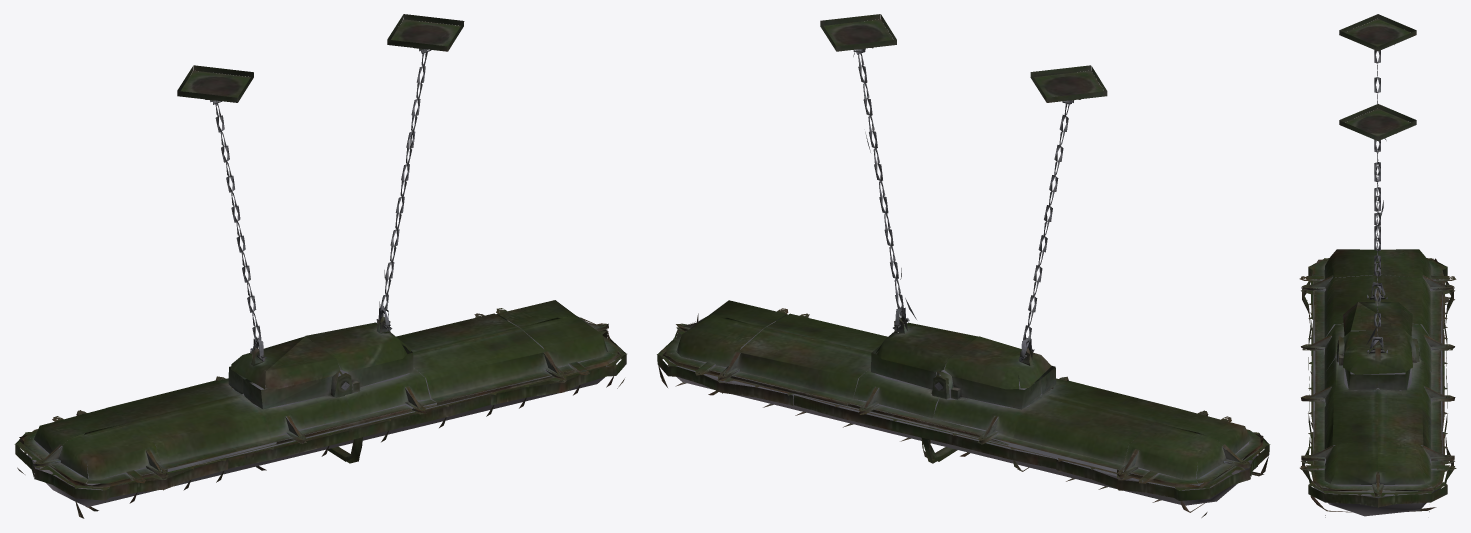
File: caged_hanging_light.glb
3 renders of one model, left to right at view 1: azimuth 30°, elevation 25°; view 2: azimuth 150°, elevation 25°; view 3: azimuth 270°, elevation 25°, orthographic. The views are drawn at different scales.
Visible parts, largest first — view 1: CC0_caged_hanging_light; view 2: CC0_caged_hanging_light; view 3: CC0_caged_hanging_light.
Part boxes in pixels (x1,y1,x2,y2): CC0_caged_hanging_light: (14,14,626,518); CC0_caged_hanging_light: (657,14,1270,517); CC0_caged_hanging_light: (1299,14,1456,517).
Bounding box in the file's own units: 1.17 × 0.7501 × 0.3164.
1 material, 1 textured.
